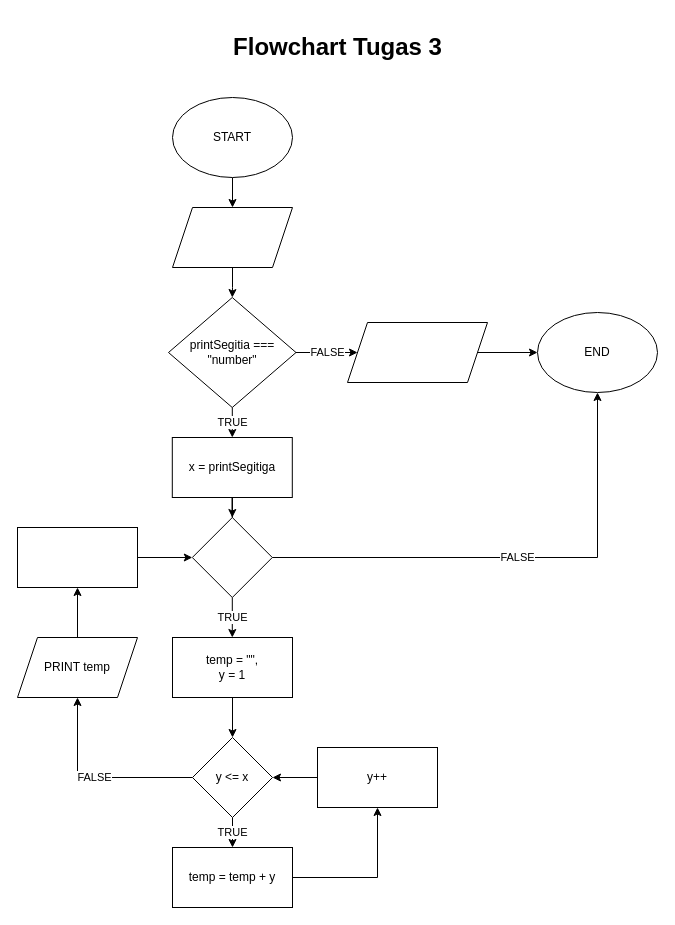
Some shapes in this 675 by 925 pixel diagram are drawn without their labels. Each missing label, with the box of its shape:
PRINT "Data harus number: (346, 322, 488, 382)
printSegitiga: (172, 206, 292, 268)
x >0: (191, 516, 272, 598)
x--: (16, 526, 138, 588)
